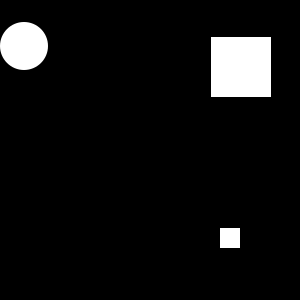circle: (211, 37, 271, 97), (220, 228, 240, 248)
rectangle: (0, 22, 48, 70)
